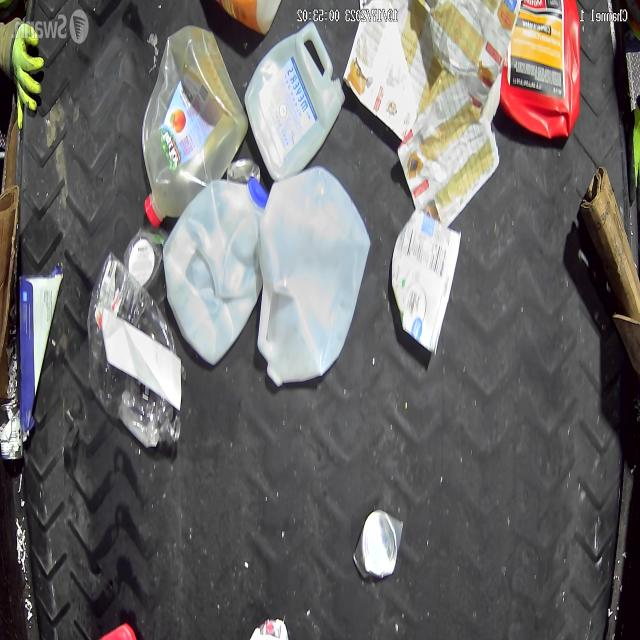can: (353, 510, 404, 579), (0, 403, 22, 460)
milk_jug: (258, 166, 370, 389), (162, 173, 261, 362), (243, 16, 344, 180)
non_white_jug: (141, 24, 249, 228), (502, 2, 580, 139)
